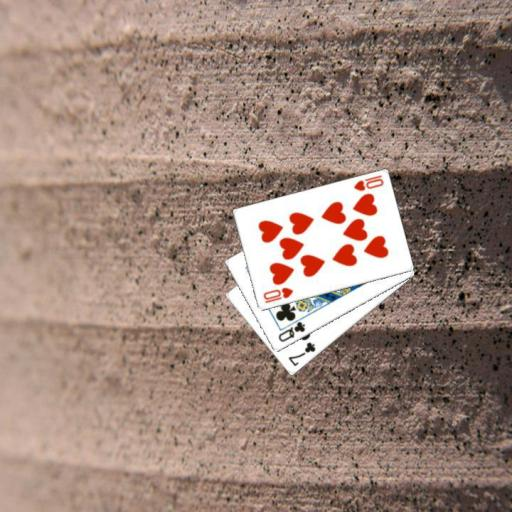10H: (351, 172, 385, 193), (261, 285, 295, 305)
7C: (285, 340, 317, 369)
QC: (275, 319, 307, 344)
